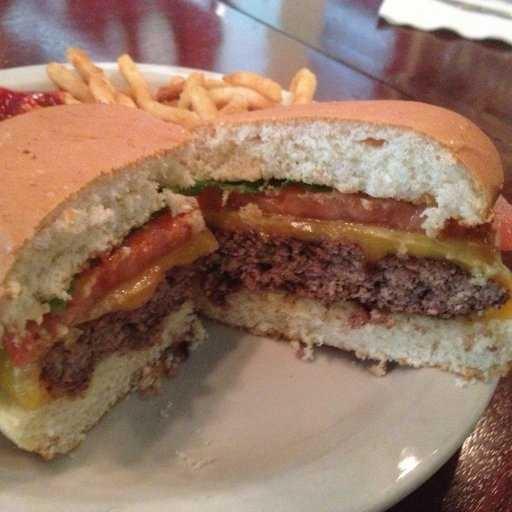hamburger: (1, 69, 500, 469)
